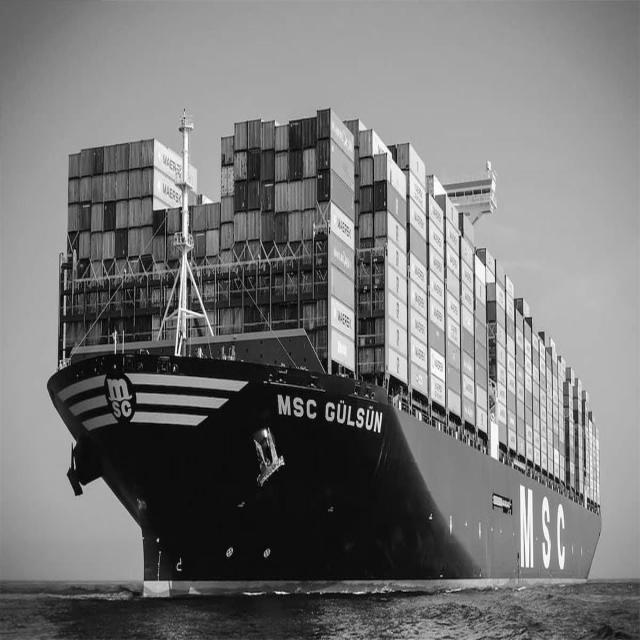Container Ship: (30, 97, 613, 610)
